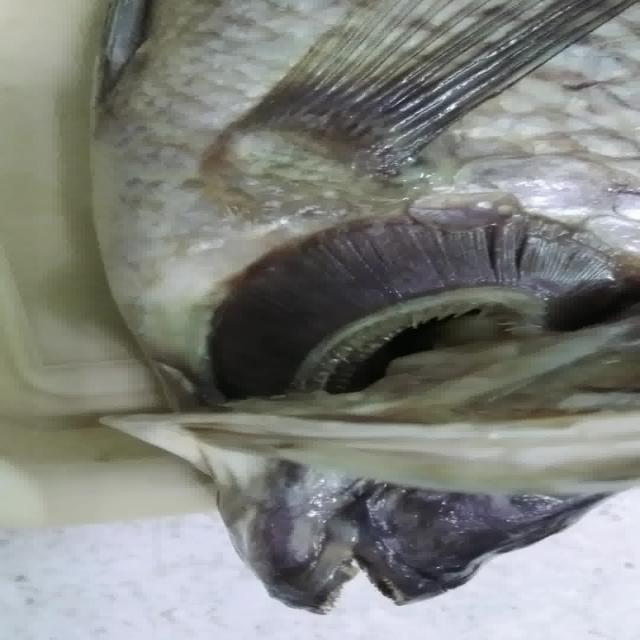Non-Fresh: (183, 189, 640, 391)
